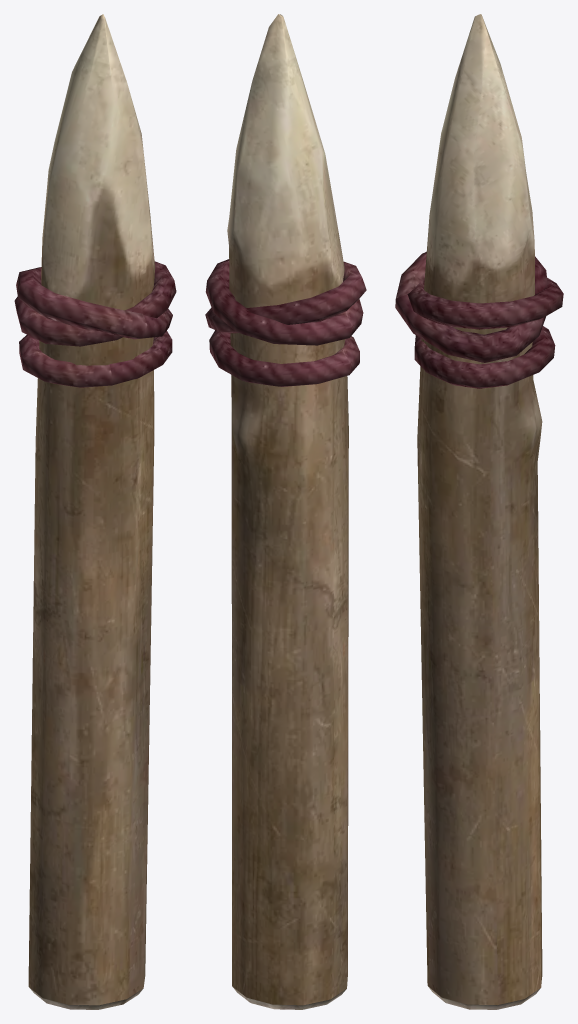
3 views of the same model, side by side, from view 1: azimuth 30°, elevation 25°; view 2: azimuth 150°, elevation 25°; view 3: azimuth 270°, elevation 25° (orthographic).
Parts seen in each view (by area): view 1: SM_Garou_Set_SM_SpikeRope_04_02_LOD0; view 2: SM_Garou_Set_SM_SpikeRope_04_02_LOD0; view 3: SM_Garou_Set_SM_SpikeRope_04_02_LOD0.
Part boxes in pixels (x1,y1,x2,y2): SM_Garou_Set_SM_SpikeRope_04_02_LOD0: (14, 14, 176, 1009); SM_Garou_Set_SM_SpikeRope_04_02_LOD0: (205, 14, 366, 1009); SM_Garou_Set_SM_SpikeRope_04_02_LOD0: (395, 14, 563, 1009).
Bounding box in the file's own units: 0.2827 × 1.84 × 0.2861.
Materials: 2 (2 with a texture image).
